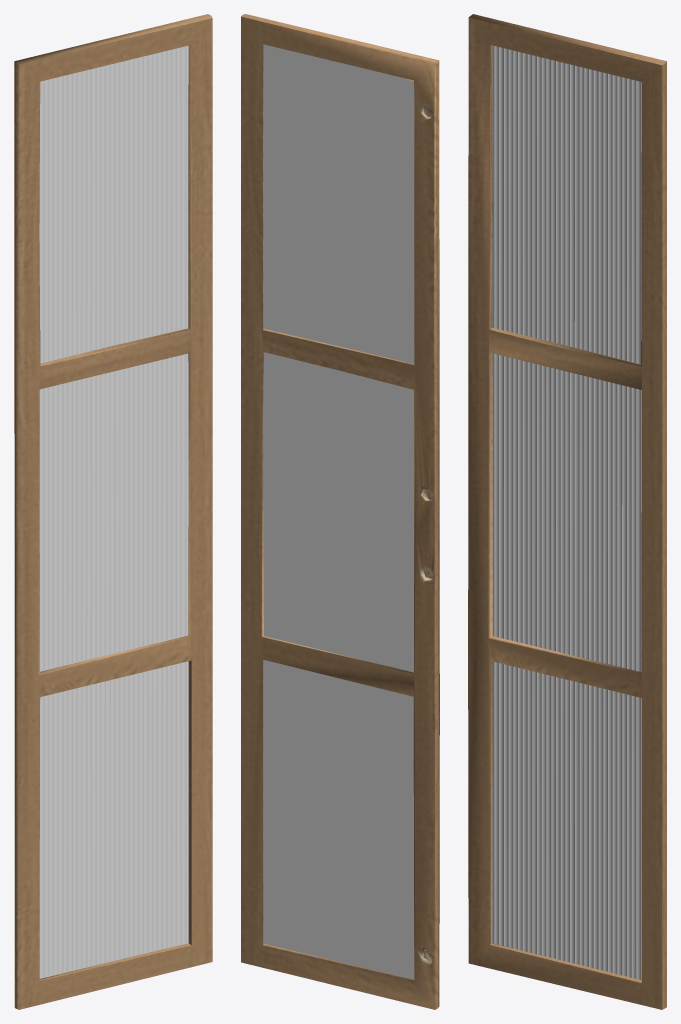
File: 01 - TONSTAD Door - oakveneer glass 50x229 cm.glb
3 renders of one model, left to right at view 1: azimuth 30°, elevation 25°; view 2: azimuth 150°, elevation 25°; view 3: azimuth 330°, elevation 25°, orthographic.
Parts seen in each view (by area): view 1: ASY_ART_50552503_S01_NV01; view 2: ASY_ART_50552503_S01_NV01; view 3: ASY_ART_50552503_S01_NV01.
Boxes of the visible parts, x1=… form: ASY_ART_50552503_S01_NV01: x1=14, y1=14, x2=212, y2=1009; ASY_ART_50552503_S01_NV01: x1=241, y1=14, x2=439, y2=1009; ASY_ART_50552503_S01_NV01: x1=468, y1=14, x2=666, y2=1009.
Bounding box in the file's own units: 0.4963 × 2.29 × 0.0212.
Materials: 2 (2 with a texture image).
